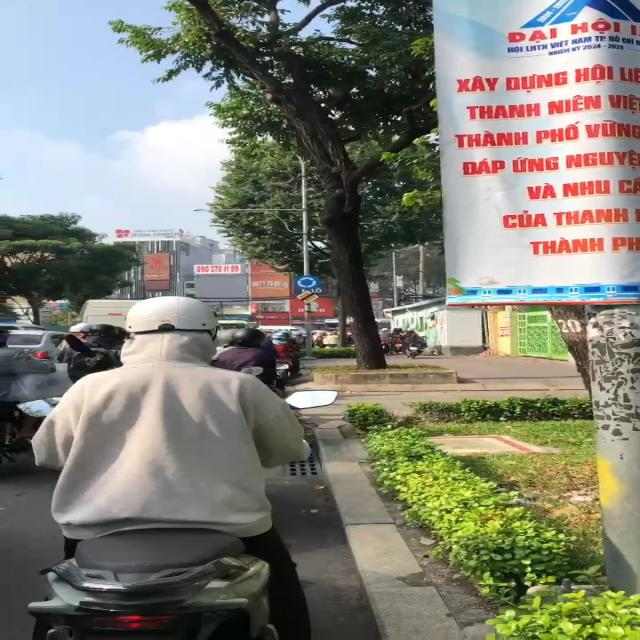Bien bao noi giao nhau chay theo vong xuyen: (292, 274, 322, 290)
